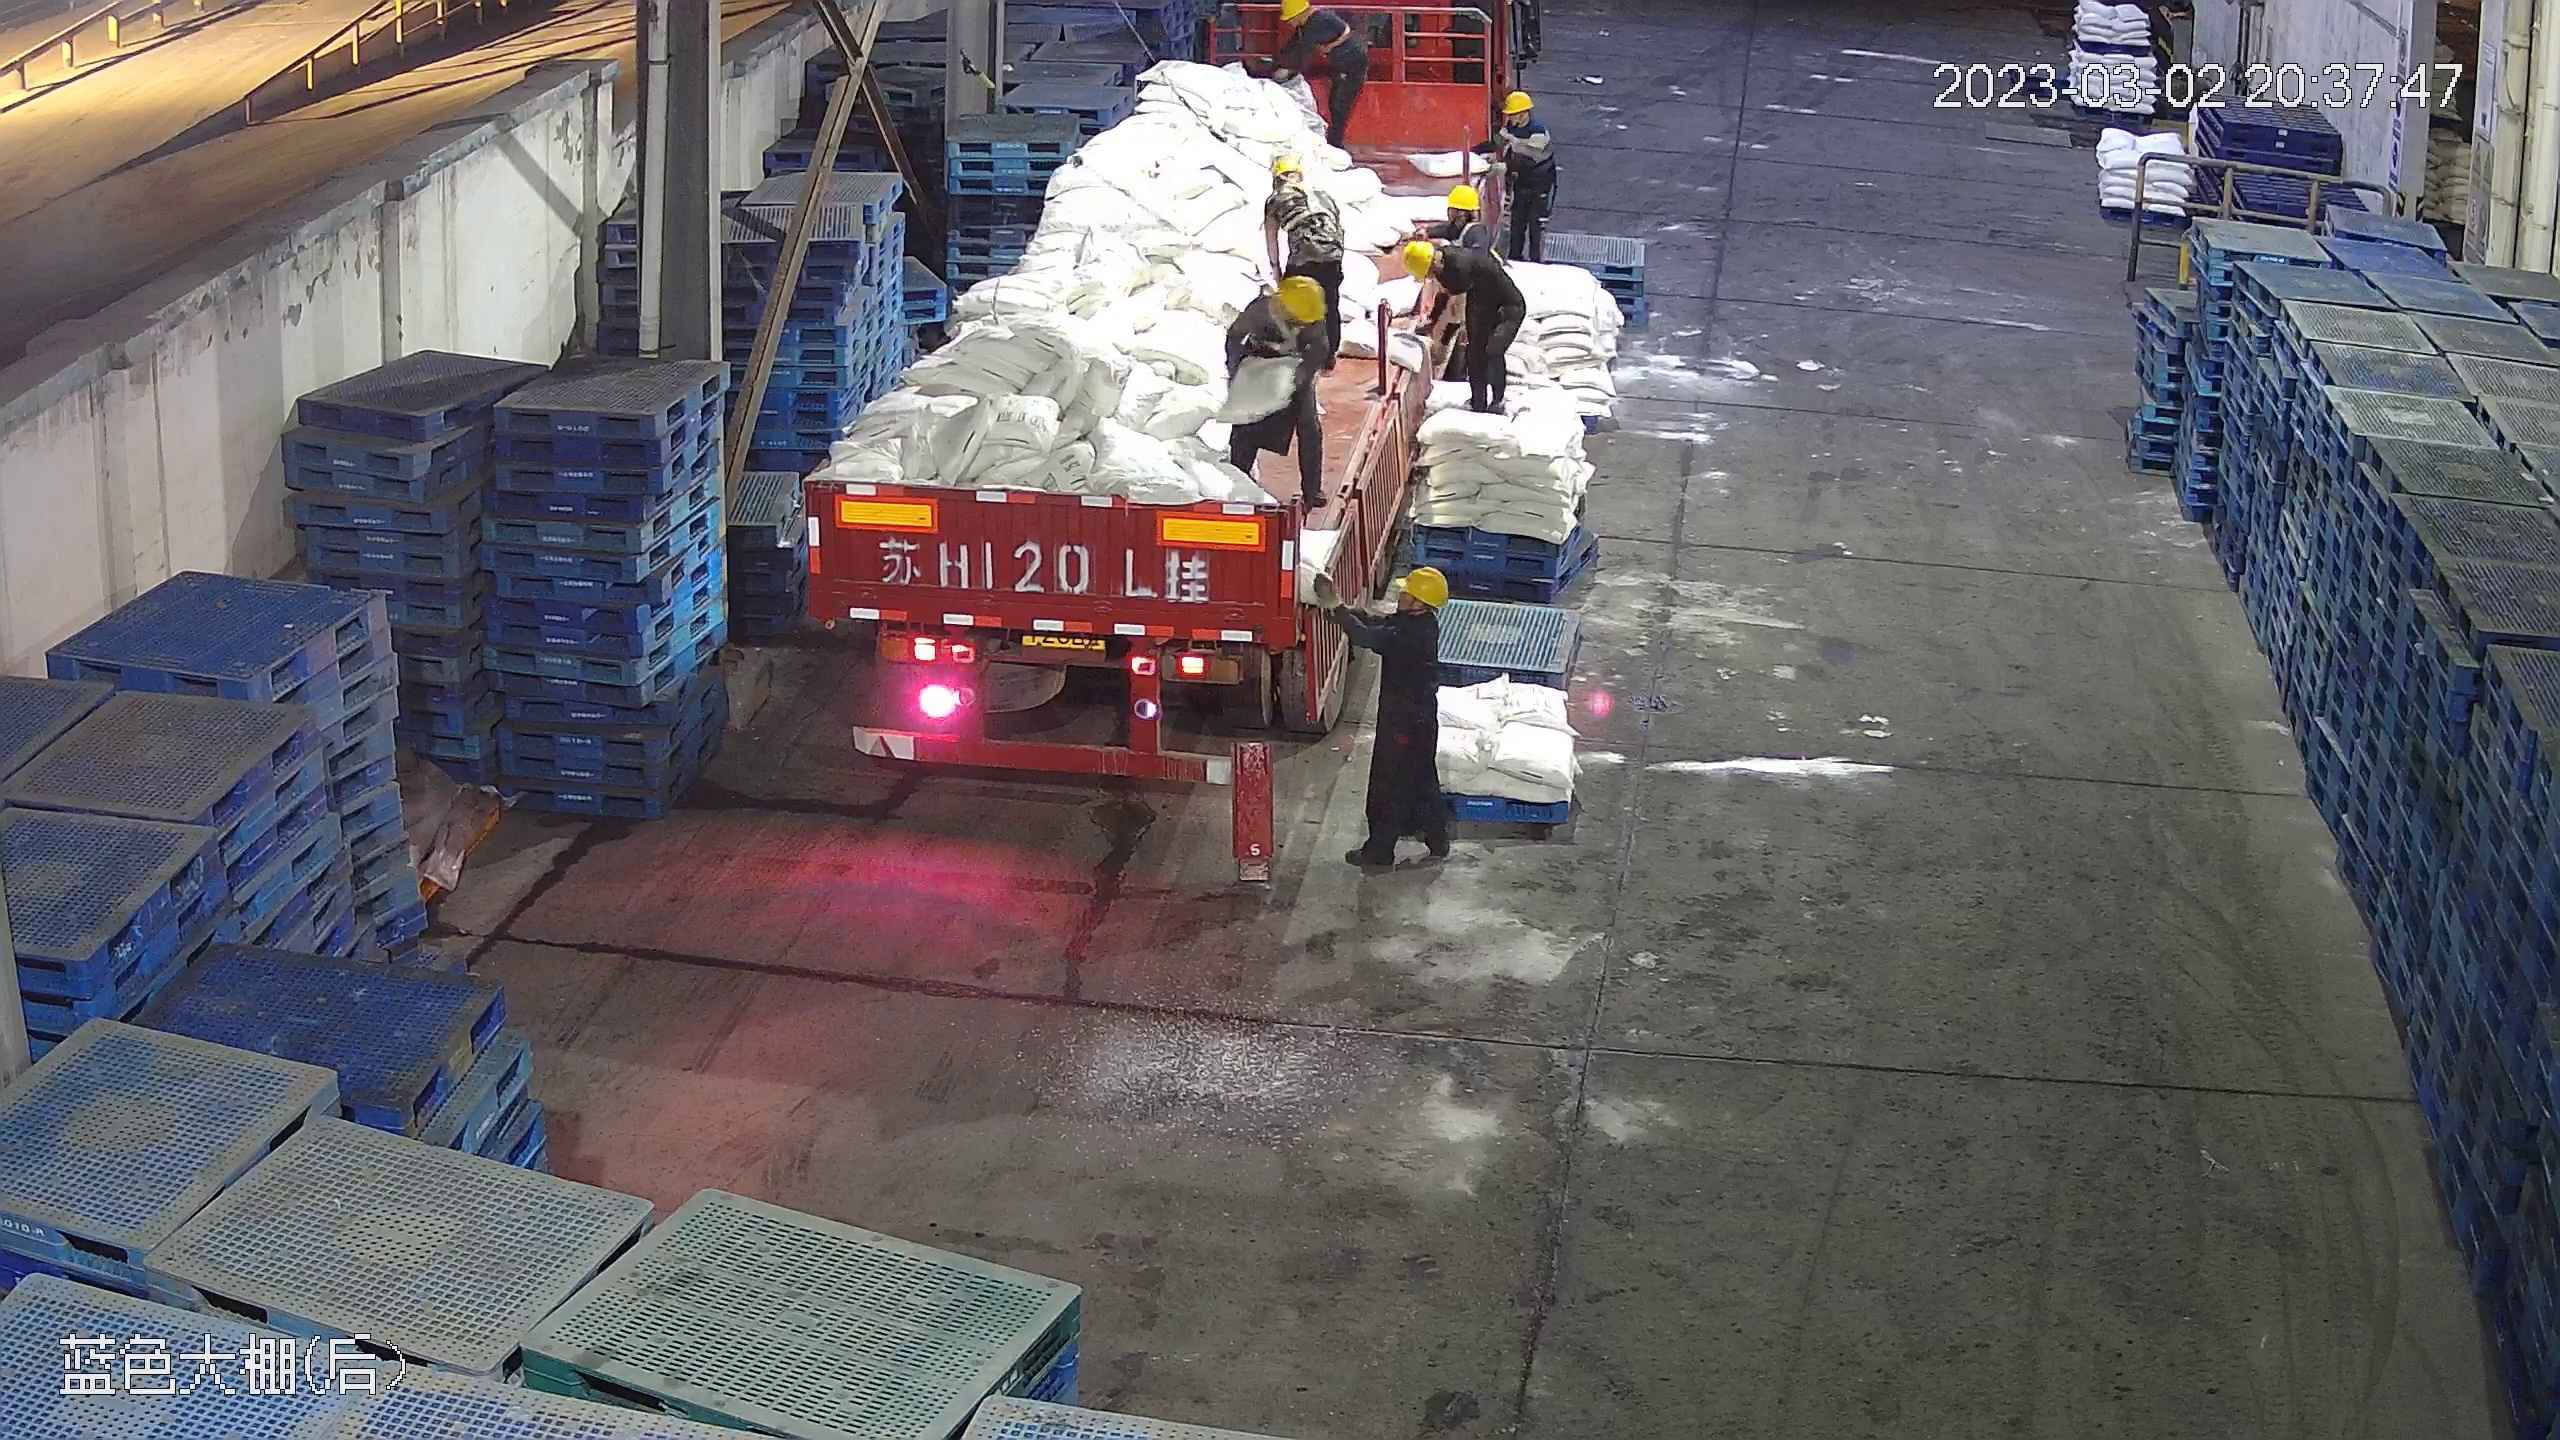belt: (1249, 295, 1320, 367), (1282, 188, 1341, 250), (1309, 9, 1357, 55), (1444, 220, 1483, 248)
head: (1235, 271, 1329, 357), (1375, 562, 1446, 667), (1430, 179, 1504, 258), (1399, 240, 1492, 296), (1266, 151, 1335, 217), (1492, 88, 1550, 147), (1272, 1, 1336, 48)
helmet: (1272, 272, 1329, 328), (1393, 564, 1449, 607), (1398, 236, 1438, 278), (1440, 181, 1481, 211), (1270, 153, 1301, 178), (1501, 89, 1531, 114), (1277, 1, 1309, 20)
people: (1345, 565, 1448, 877), (1220, 270, 1331, 522), (1395, 229, 1523, 420), (1256, 1, 1370, 155), (1260, 151, 1346, 351), (1486, 88, 1558, 268)
truck: (790, 16, 1483, 777)
